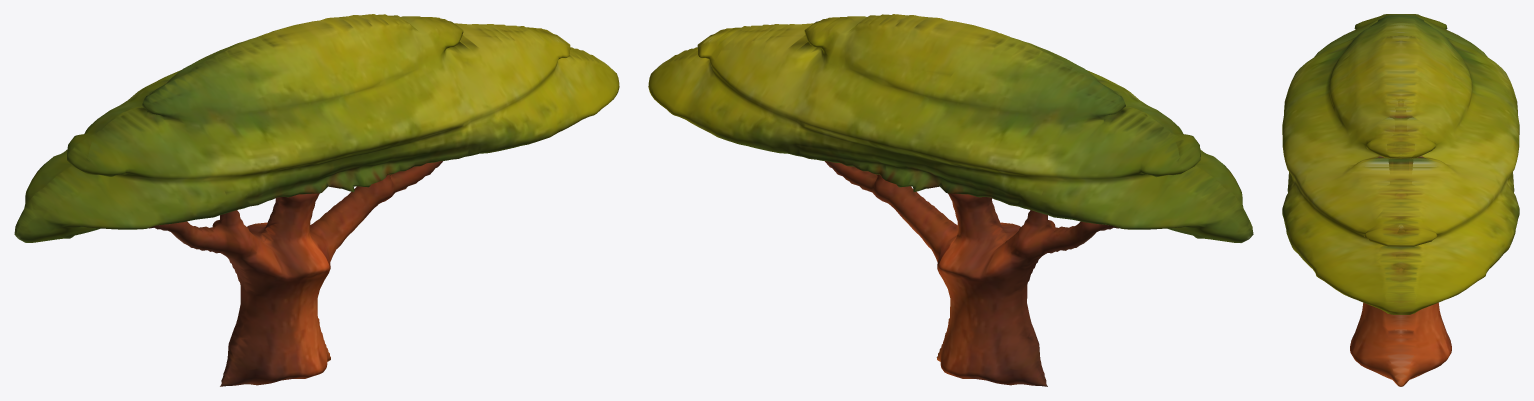
The model's file is 02_acacia_trees_r01_c00.glb.
3 renders of one model, left to right at view 1: azimuth 30°, elevation 25°; view 2: azimuth 150°, elevation 25°; view 3: azimuth 270°, elevation 25°, orthographic. The views are drawn at different scales.
Visible parts, largest first — view 1: 02_acacia_trees_r01_c00; view 2: 02_acacia_trees_r01_c00; view 3: 02_acacia_trees_r01_c00.
Part boxes in pixels (x1,y1,x2,y2): 02_acacia_trees_r01_c00: (14, 14, 619, 386); 02_acacia_trees_r01_c00: (648, 14, 1253, 386); 02_acacia_trees_r01_c00: (1282, 14, 1519, 386).
Size of the model in its own units: 4.38 by 2.36 by 1.57.
Materials: 1 (1 with a texture image).
